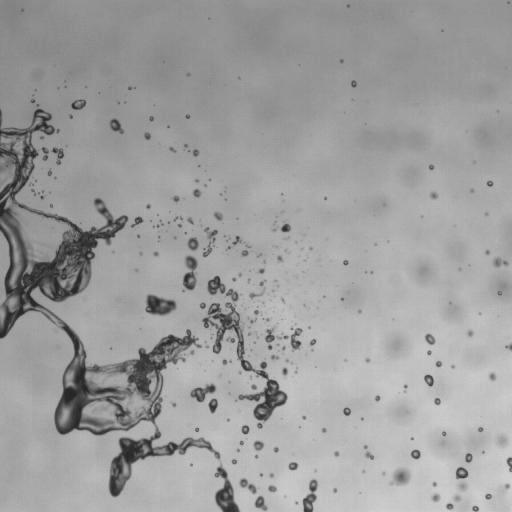droplet: (264, 326, 302, 350), (145, 293, 176, 316), (190, 383, 216, 402), (389, 467, 411, 485), (227, 235, 249, 250), (109, 118, 124, 133), (254, 495, 267, 511), (52, 147, 63, 164), (495, 434, 508, 447), (493, 257, 508, 267), (208, 398, 218, 413), (187, 237, 198, 250), (71, 99, 85, 109), (425, 333, 435, 345), (424, 374, 434, 386), (499, 483, 511, 493), (41, 147, 49, 160), (280, 222, 290, 232), (253, 440, 263, 450), (410, 449, 420, 459), (431, 493, 440, 502), (288, 462, 298, 470), (192, 189, 201, 197), (213, 212, 222, 220), (241, 425, 249, 434), (488, 372, 496, 380), (365, 451, 373, 459), (268, 484, 276, 492), (465, 453, 472, 462), (343, 407, 350, 415), (453, 494, 461, 501), (282, 367, 287, 377), (192, 149, 199, 156), (430, 192, 437, 199), (172, 195, 179, 202), (241, 249, 248, 256), (309, 339, 316, 346), (446, 503, 453, 510), (270, 354, 278, 360), (144, 132, 150, 139), (486, 180, 493, 186), (187, 217, 193, 224), (277, 255, 283, 262), (435, 361, 442, 367), (485, 493, 492, 499), (258, 268, 264, 274), (467, 330, 473, 336), (222, 359, 228, 365), (374, 395, 380, 401), (434, 398, 440, 404), (351, 80, 356, 87), (169, 147, 175, 152), (428, 164, 434, 169), (200, 302, 205, 308), (251, 384, 257, 389), (273, 446, 278, 452), (472, 506, 478, 511), (153, 251, 158, 256), (343, 260, 348, 265), (334, 451, 339, 456), (231, 459, 236, 464), (485, 249, 489, 255), (204, 342, 208, 348), (188, 350, 194, 354), (149, 116, 153, 121), (47, 170, 51, 175), (146, 204, 150, 209), (365, 358, 370, 362), (478, 427, 483, 431), (321, 428, 326, 432), (442, 431, 446, 436), (264, 318, 270, 321), (40, 194, 44, 198), (272, 227, 276, 231), (232, 277, 236, 281), (497, 291, 501, 295), (357, 309, 361, 313), (281, 346, 285, 350), (427, 350, 431, 354), (171, 402, 175, 406), (363, 445, 367, 449), (269, 473, 273, 477), (432, 482, 436, 486), (333, 488, 337, 492), (128, 86, 133, 89), (186, 114, 189, 118), (178, 223, 181, 227), (281, 298, 284, 302), (195, 427, 198, 431), (31, 99, 34, 102), (195, 179, 198, 182), (470, 189, 473, 192), (309, 247, 312, 250), (285, 249, 288, 252), (240, 441, 243, 444), (295, 501, 298, 504), (295, 368, 297, 372), (340, 60, 343, 62), (187, 73, 189, 76), (69, 115, 72, 117), (41, 136, 43, 139), (185, 144, 187, 147), (239, 273, 241, 276), (238, 371, 241, 373), (303, 416, 305, 419), (255, 455, 257, 458), (362, 470, 365, 472), (30, 183, 32, 185), (32, 190, 34, 192), (137, 235, 139, 237), (140, 252, 142, 254), (247, 279, 249, 281), (262, 302, 264, 304), (276, 343, 278, 345), (452, 366, 454, 368), (237, 449, 239, 451)
ligament: (0, 107, 240, 511), (203, 275, 287, 428), (182, 255, 198, 291), (302, 479, 317, 511), (202, 227, 217, 257), (249, 279, 265, 299), (456, 466, 468, 491), (239, 478, 257, 493), (248, 308, 261, 323), (131, 216, 143, 227), (506, 456, 511, 472), (506, 342, 511, 351), (155, 221, 162, 227), (174, 216, 182, 220), (403, 384, 407, 392), (248, 331, 254, 335), (285, 359, 291, 363)
